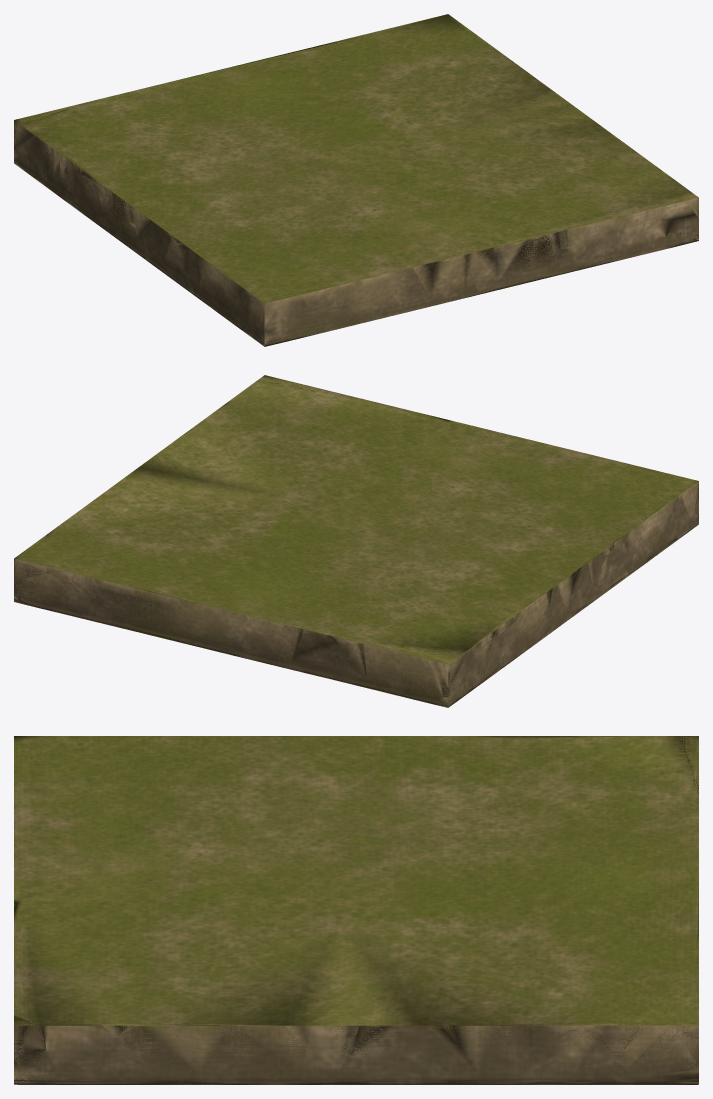
3 views of the same model, one above another, from view 1: azimuth 30°, elevation 25°; view 2: azimuth 150°, elevation 25°; view 3: azimuth 270°, elevation 25° (orthographic). The views are drawn at different scales.
Parts seen in each view (by area): view 1: meadow-ground.001; view 2: meadow-ground.001; view 3: meadow-ground.001.
Part boxes in pixels (left/top/right/bottom): meadow-ground.001: left=14, top=14, right=698, bottom=346; meadow-ground.001: left=14, top=375, right=698, bottom=707; meadow-ground.001: left=14, top=736, right=698, bottom=1084.
Bounding box in the file's own units: 20 × 1.93 × 20.
Materials: 1 (1 with a texture image).
